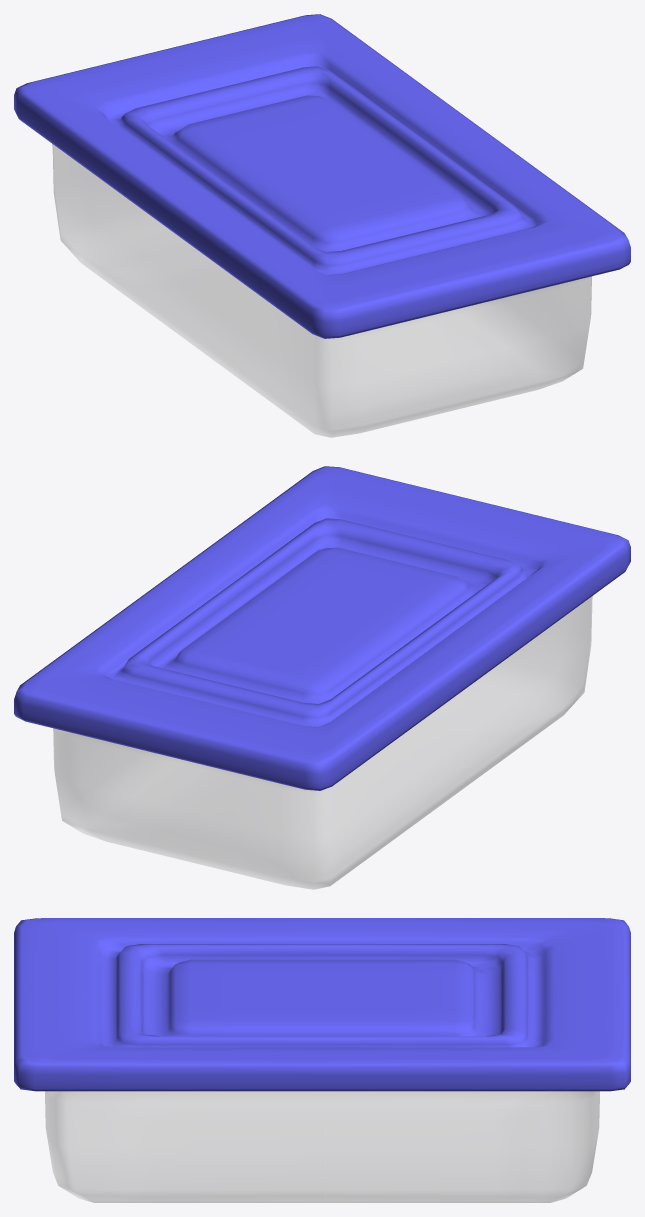
Rendered from correct_2.glb.
3 renders of one model, top to bottom at view 1: azimuth 30°, elevation 25°; view 2: azimuth 150°, elevation 25°; view 3: azimuth 270°, elevation 25°, orthographic. The views are drawn at different scales.
Parts seen in each view (by area): view 1: pCube2, pCube1; view 2: pCube2, pCube1; view 3: pCube2, pCube1.
Boxes of the visible parts, x1=… form: pCube2: x1=14, y1=14, x2=630, y2=338; pCube1: x1=52, y1=144, x2=591, y2=437; pCube2: x1=14, y1=466, x2=630, y2=790; pCube1: x1=53, y1=596, x2=592, y2=889; pCube2: x1=14, y1=918, x2=630, y2=1091; pCube1: x1=45, y1=1091, x2=599, y2=1202.
Bounding box in the file's own units: 9.6 × 4.94 × 16.66.
